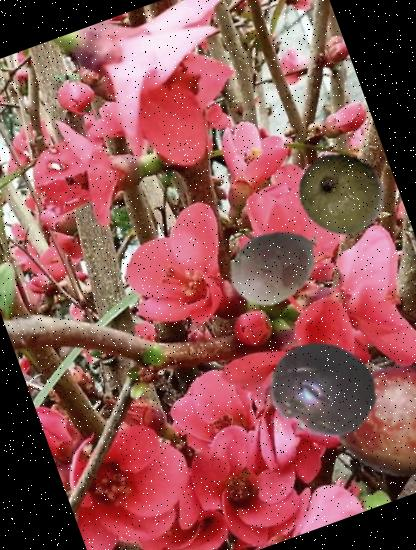Guava: (284, 136, 398, 250)
Nectarine: (317, 338, 416, 497)
Passion: (252, 318, 392, 459)
Potato: (214, 208, 335, 328)
